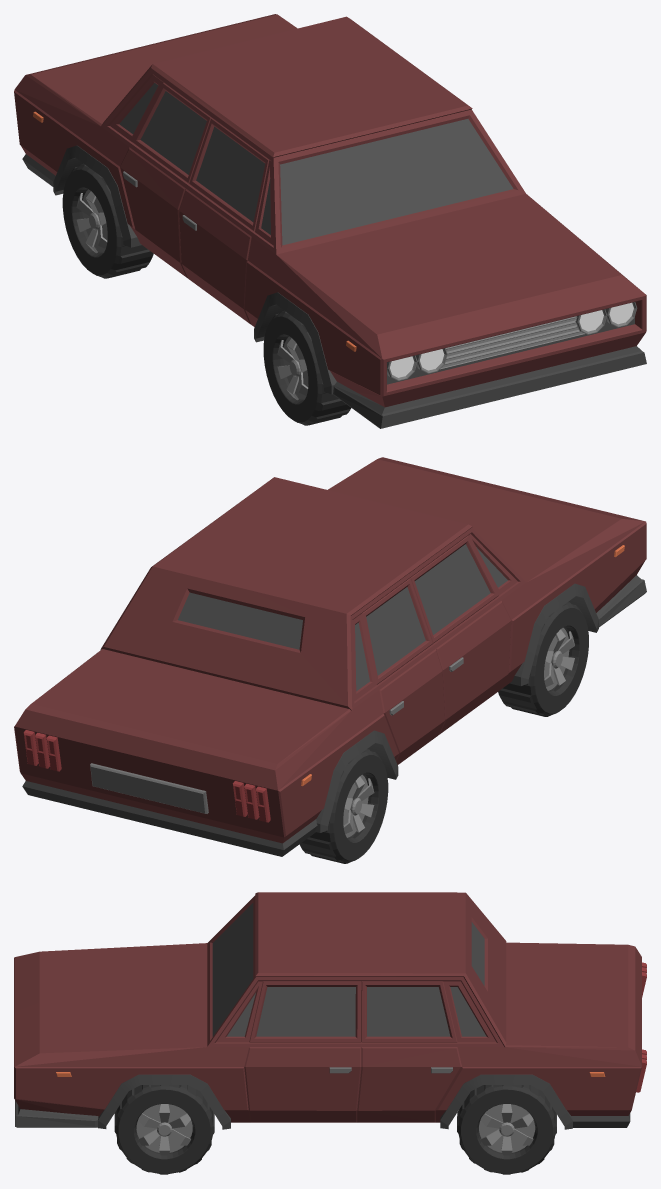
File: passeio-DTUdazFp.glb
3 views of the same model, one above another, from view 1: azimuth 30°, elevation 25°; view 2: azimuth 150°, elevation 25°; view 3: azimuth 270°, elevation 25° (orthographic). The views are drawn at different scales.
Parts seen in each view (by area): view 1: Object557; view 2: Object557; view 3: Object557.
Part boxes in pixels (<box>): Object557: <box>14,14,646,428</box>; Object557: <box>14,457,646,863</box>; Object557: <box>14,892,646,1174</box>.
Size of the model in its own units: 2 by 1.54 by 4.71.
1 material, 1 textured.
